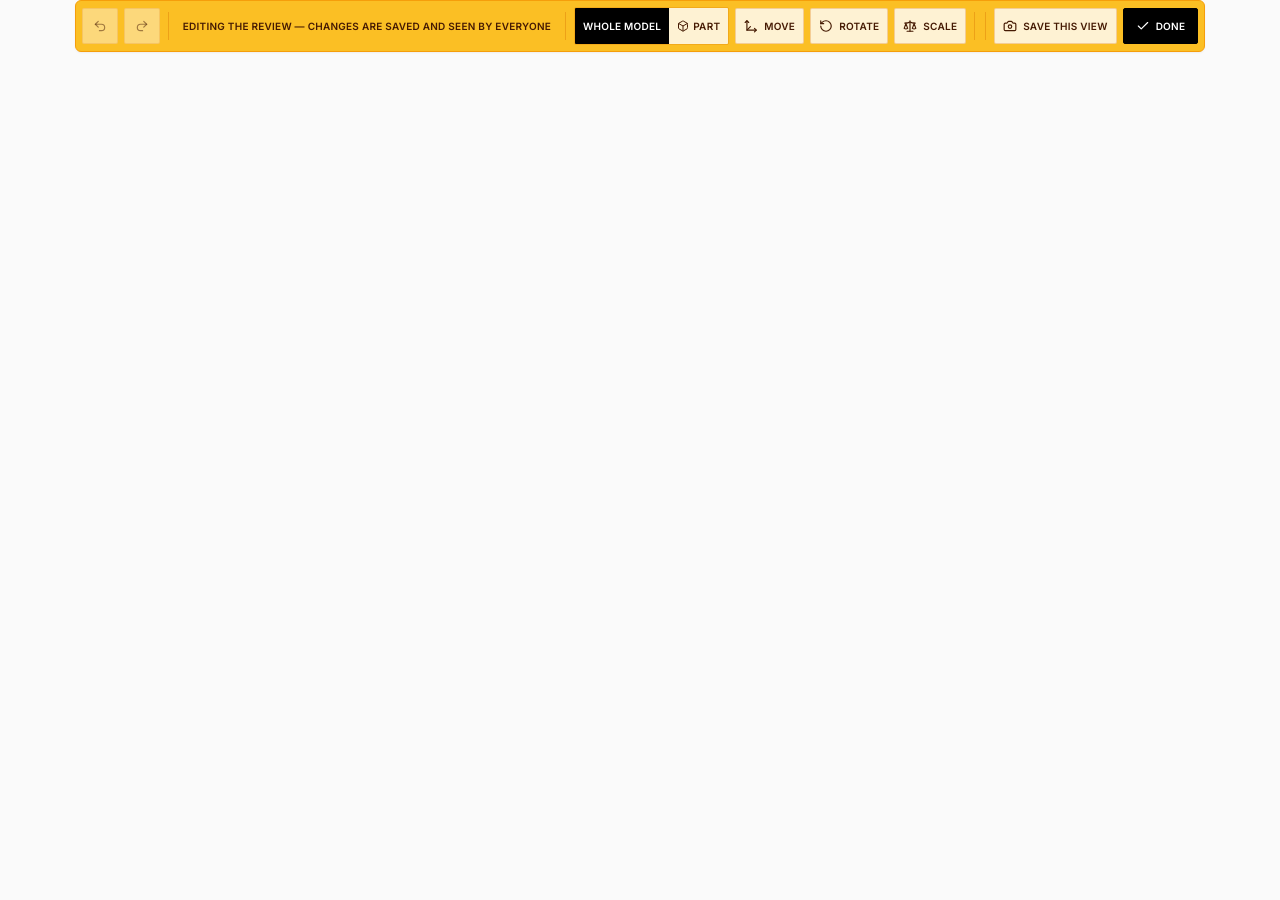
Test: the strip when it does not fit › drops the two Resets before the three tools, and the tools before Save this view
Click the button titled "Move, turn and resize one part of a model" at (699,26), box left=669, top=8, right=728, bottom=44
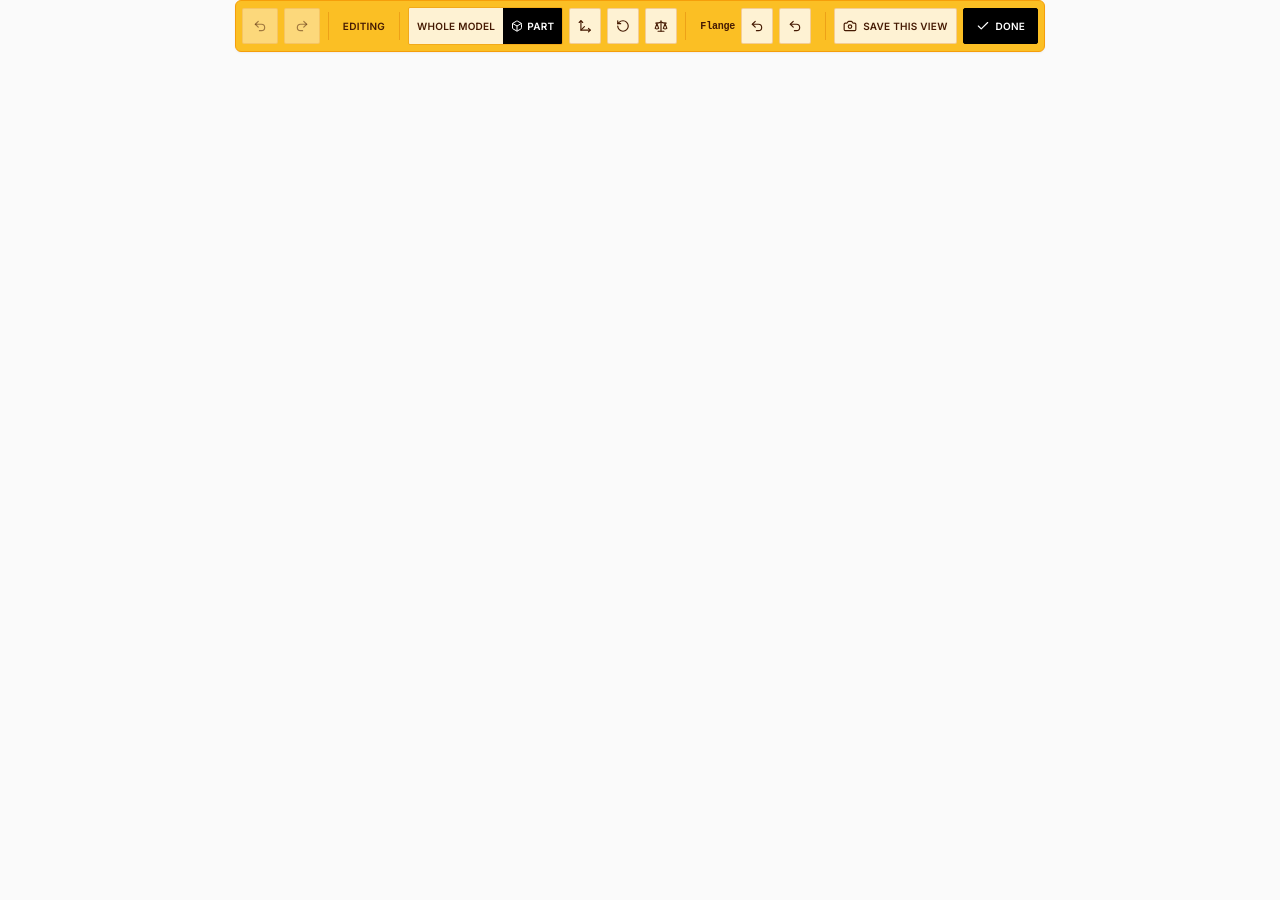
Result: the text "Rotate" is gone
Result: the text "Scale" is gone
Result: the text "Move" is gone
